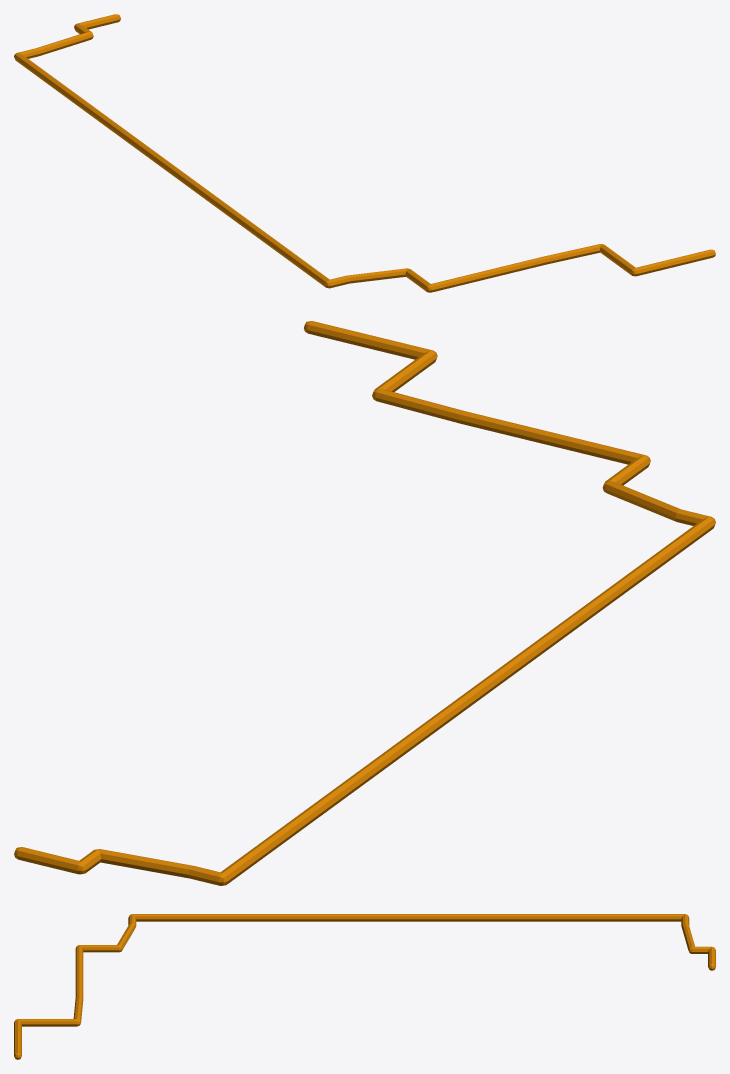
The picture shows the model from 3 angles, top to bottom: view 1: azimuth 30°, elevation 25°; view 2: azimuth 150°, elevation 25°; view 3: azimuth 270°, elevation 25°; orthographic projection. The views are drawn at different scales.
Size of the model in its own units: 849 by 20 by 1778.
